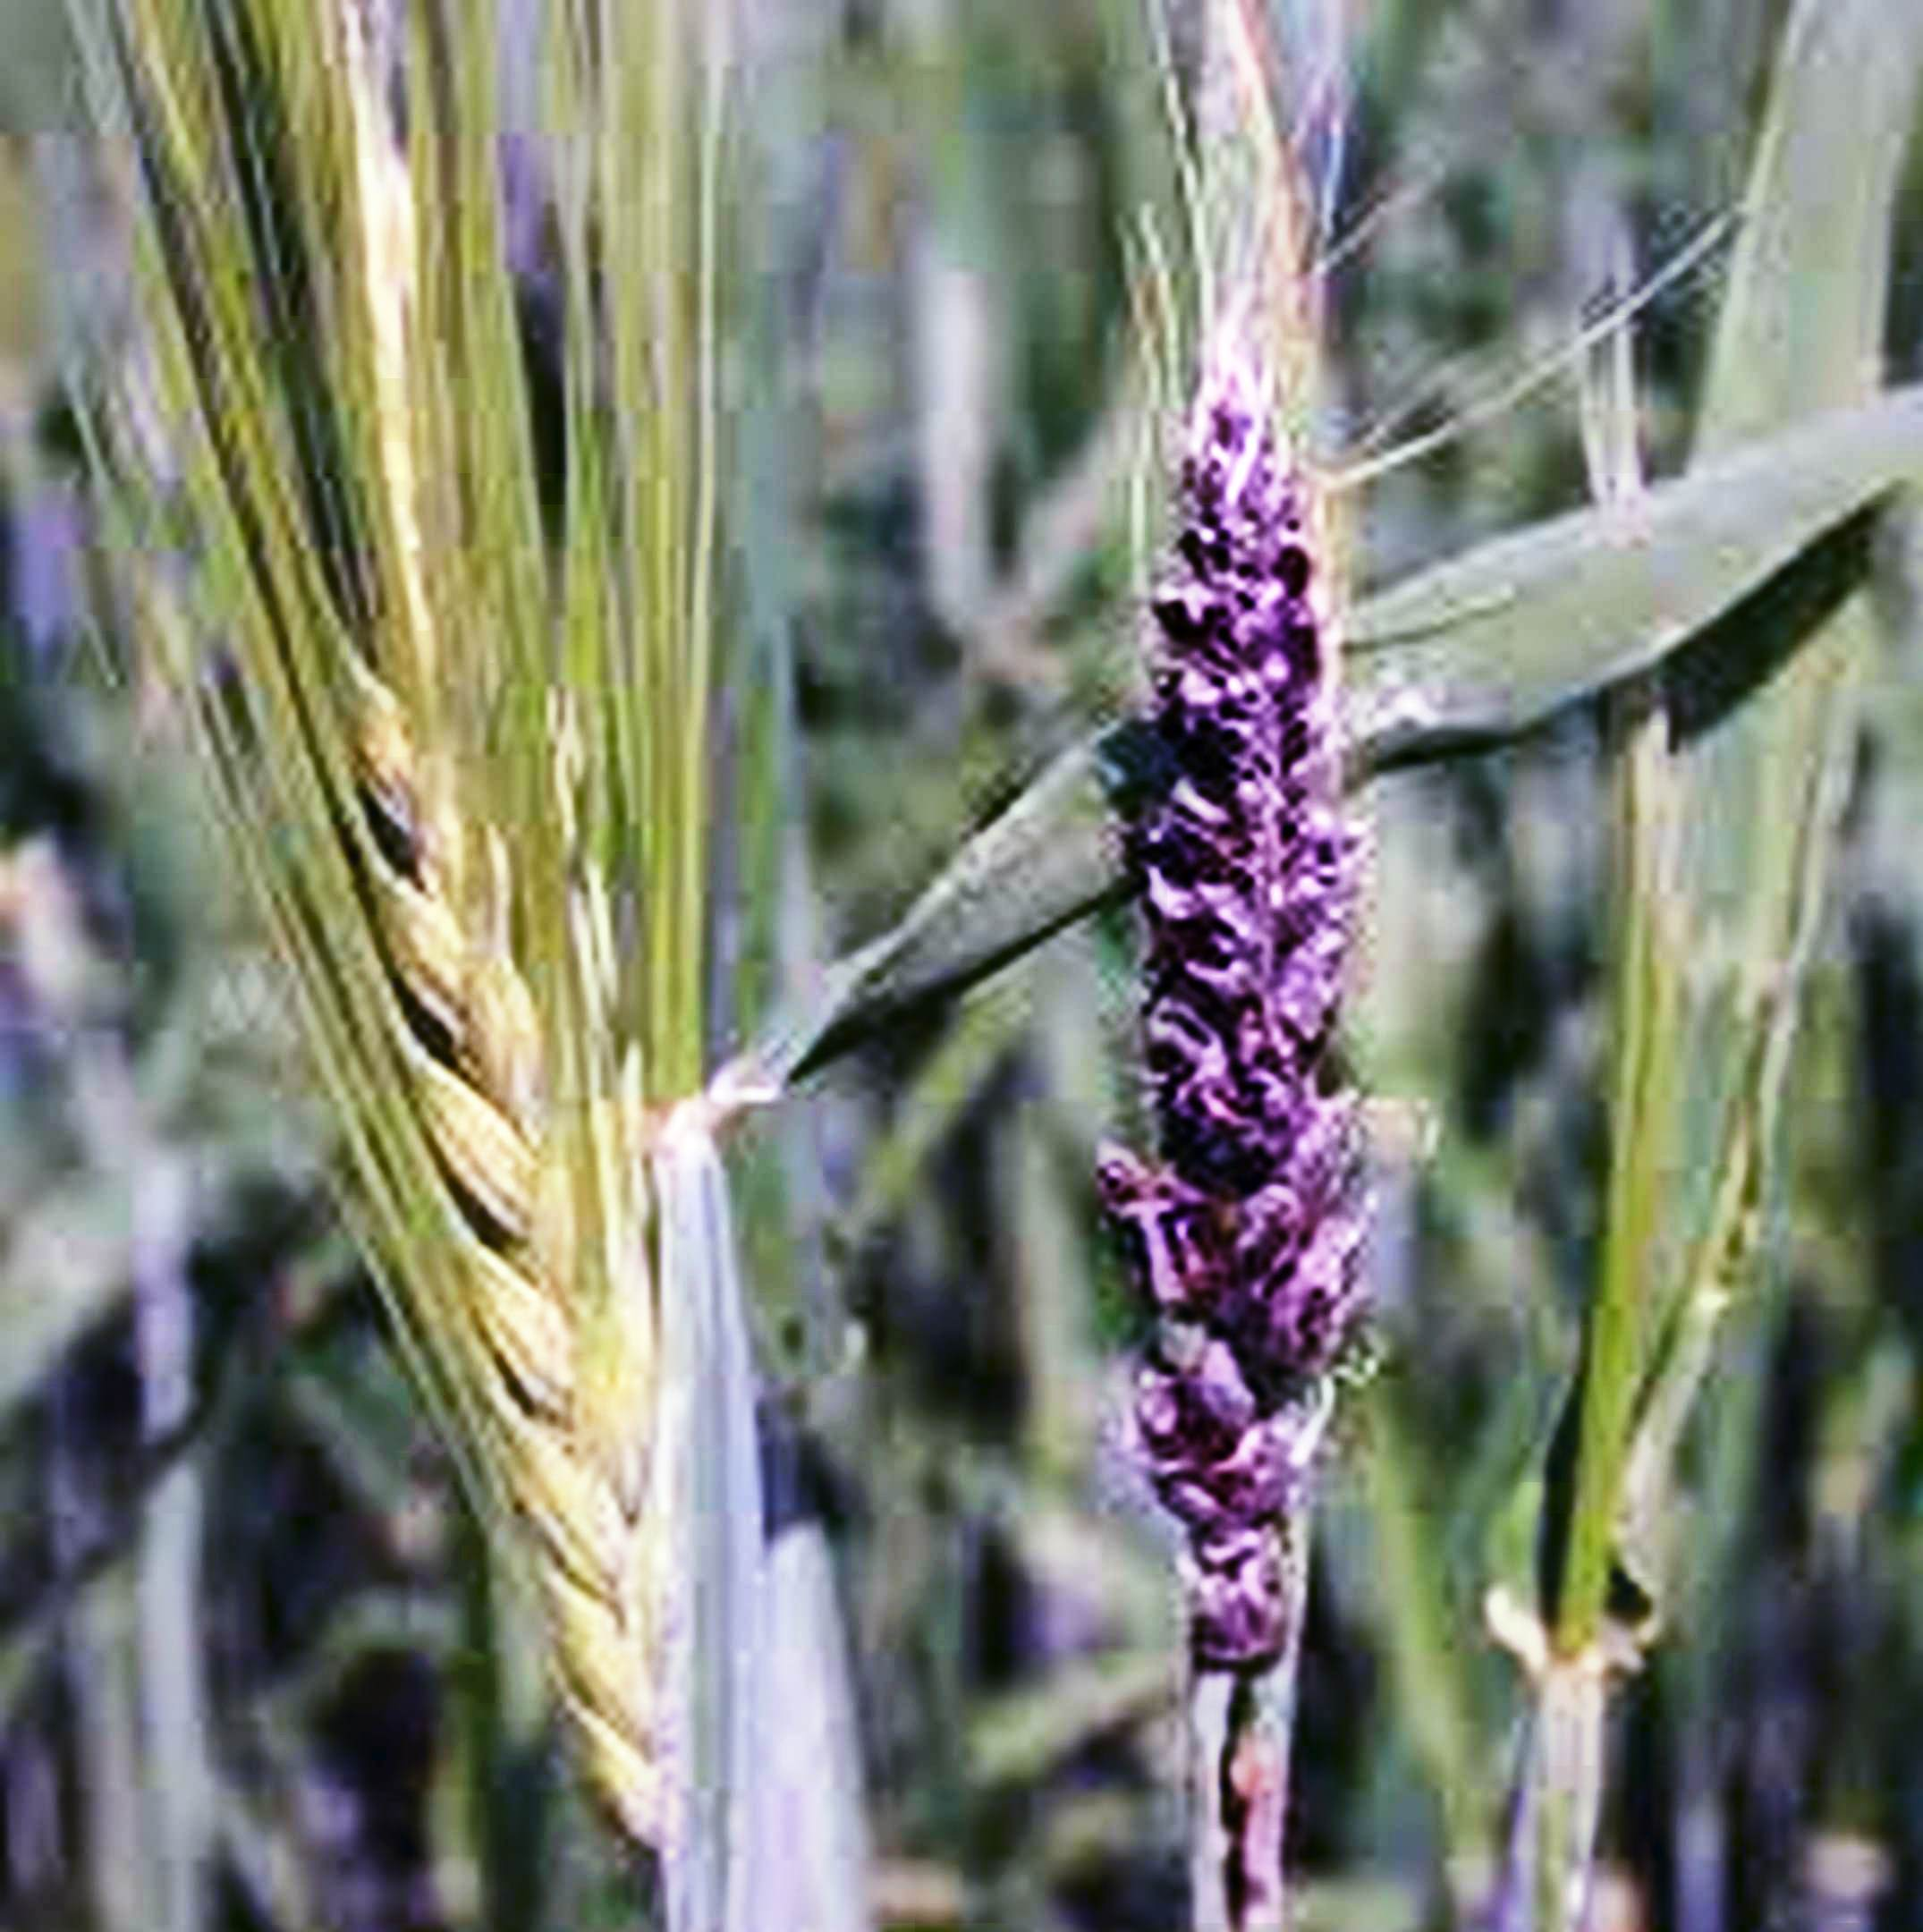Wheat Loose Smut: (1030, 410, 1425, 1645)
